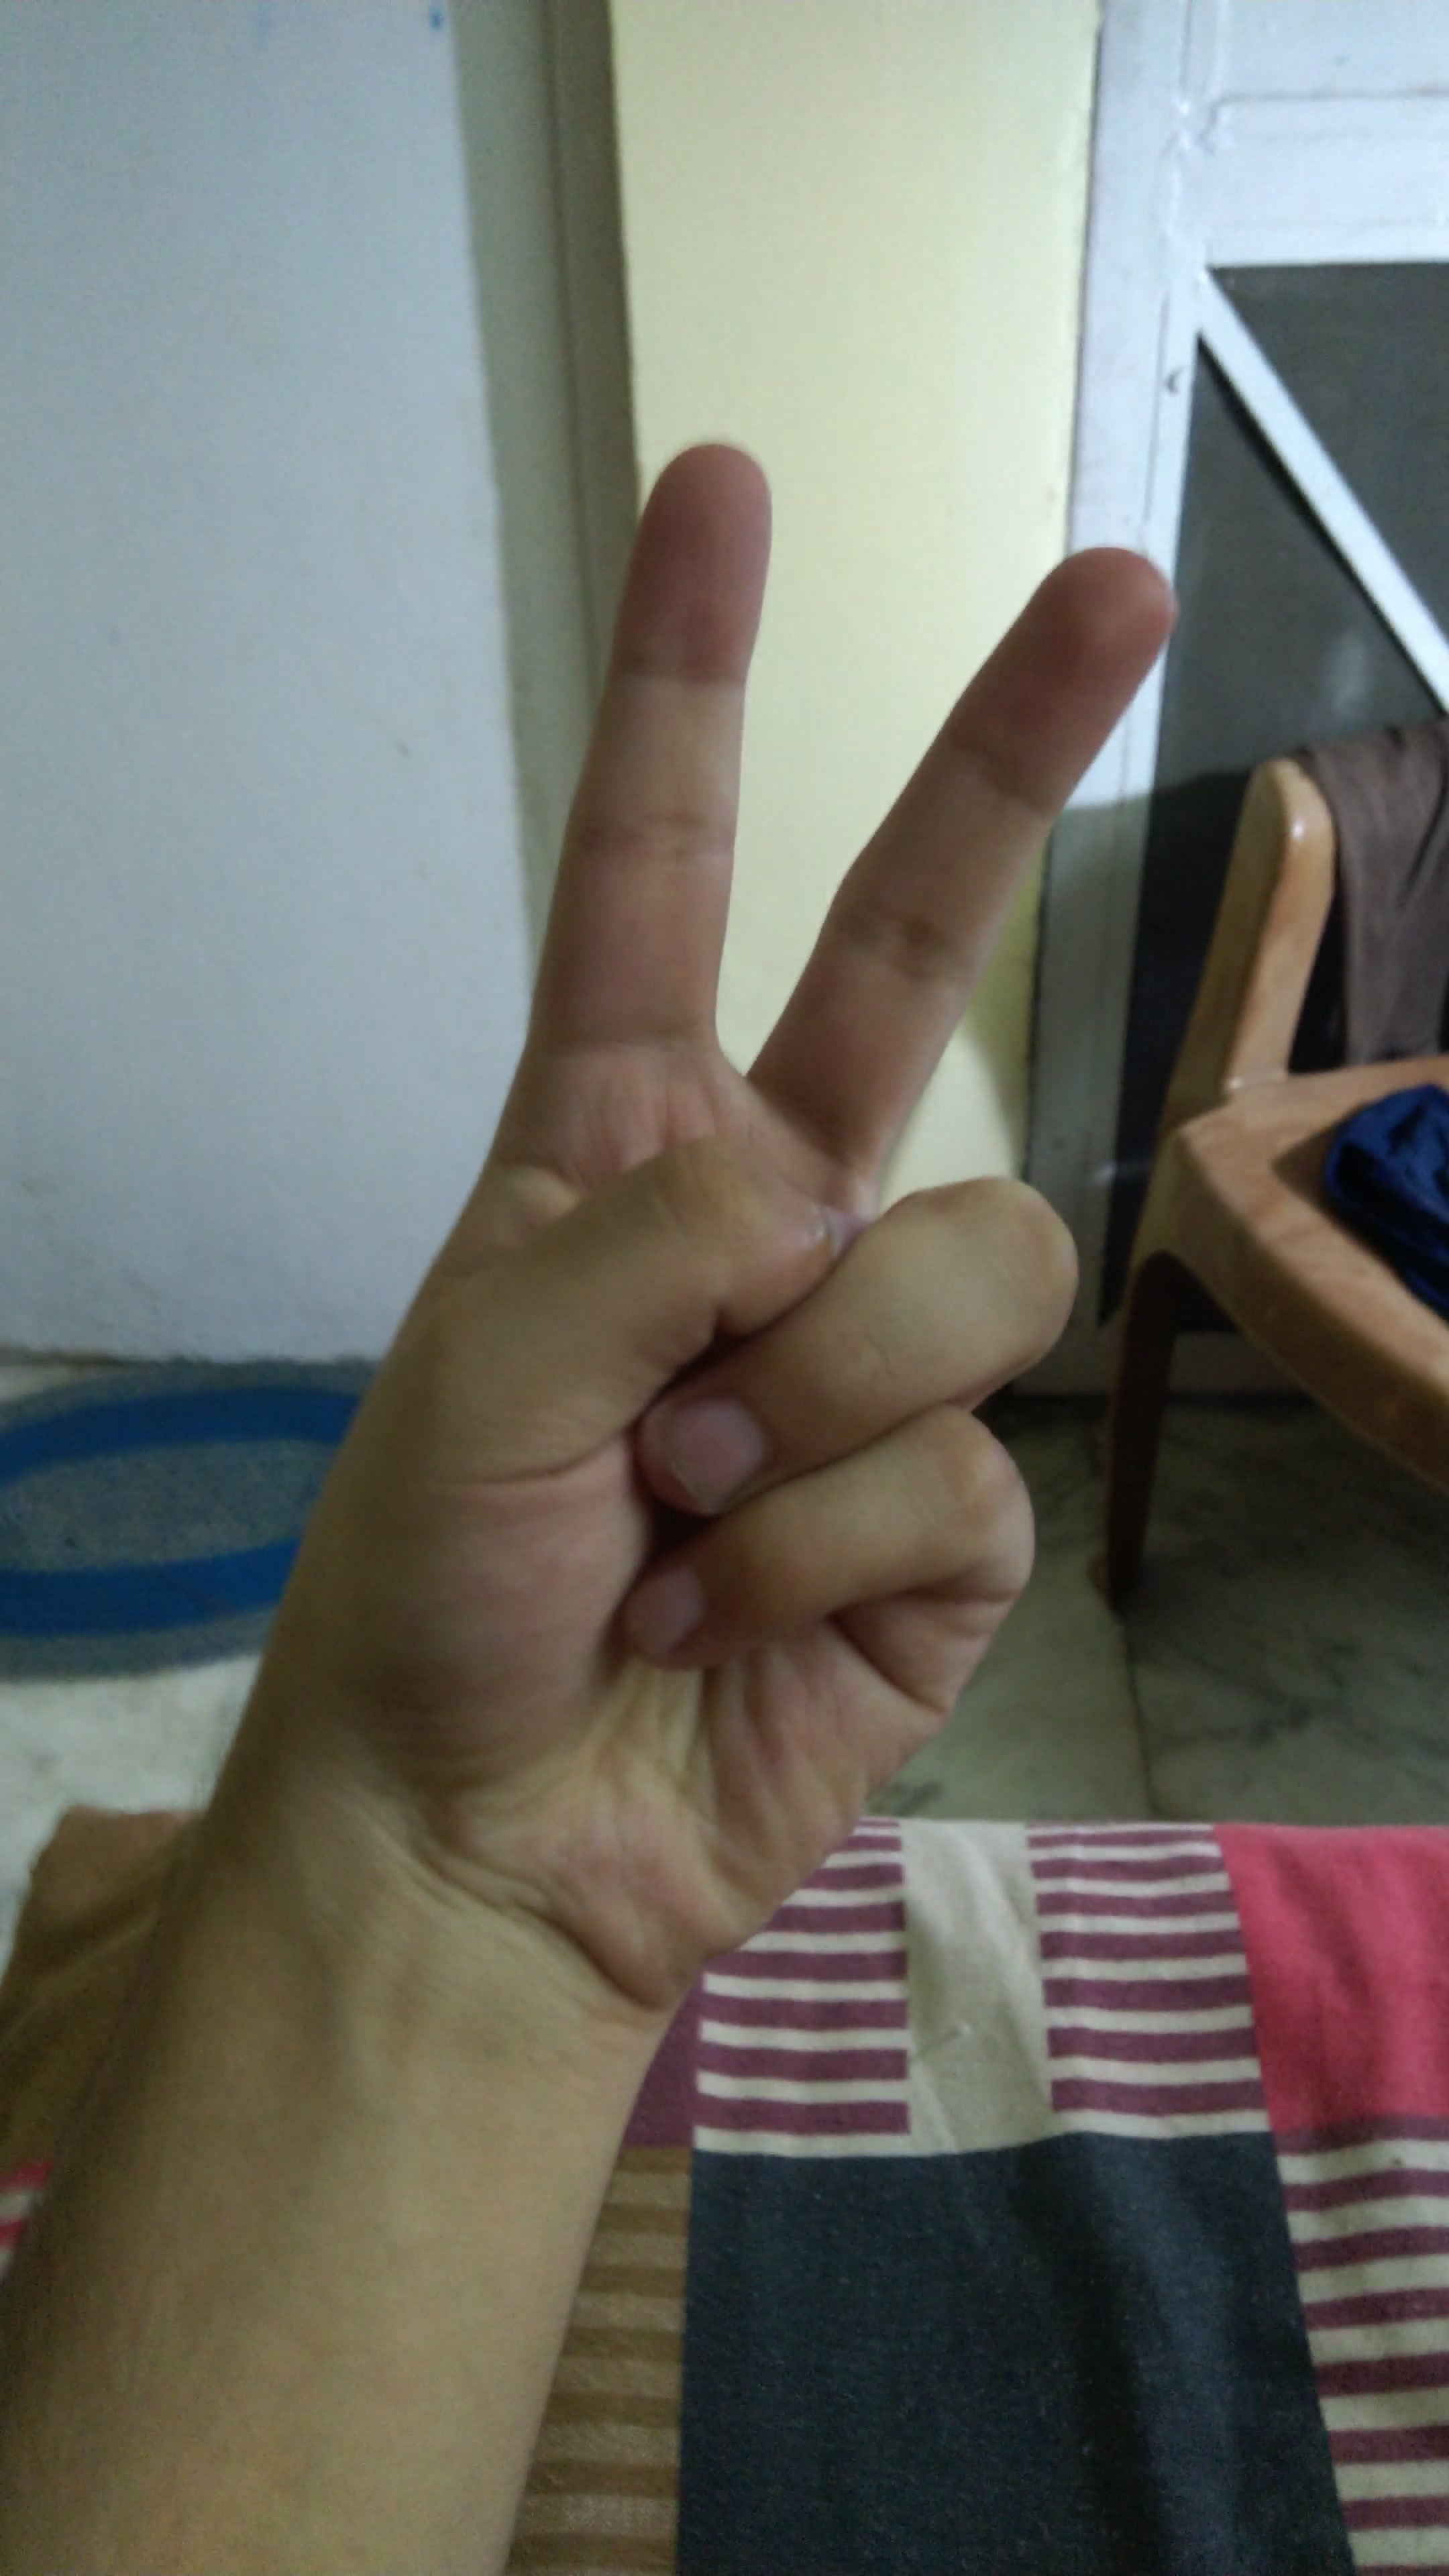hand: (189, 407, 1223, 2035)
